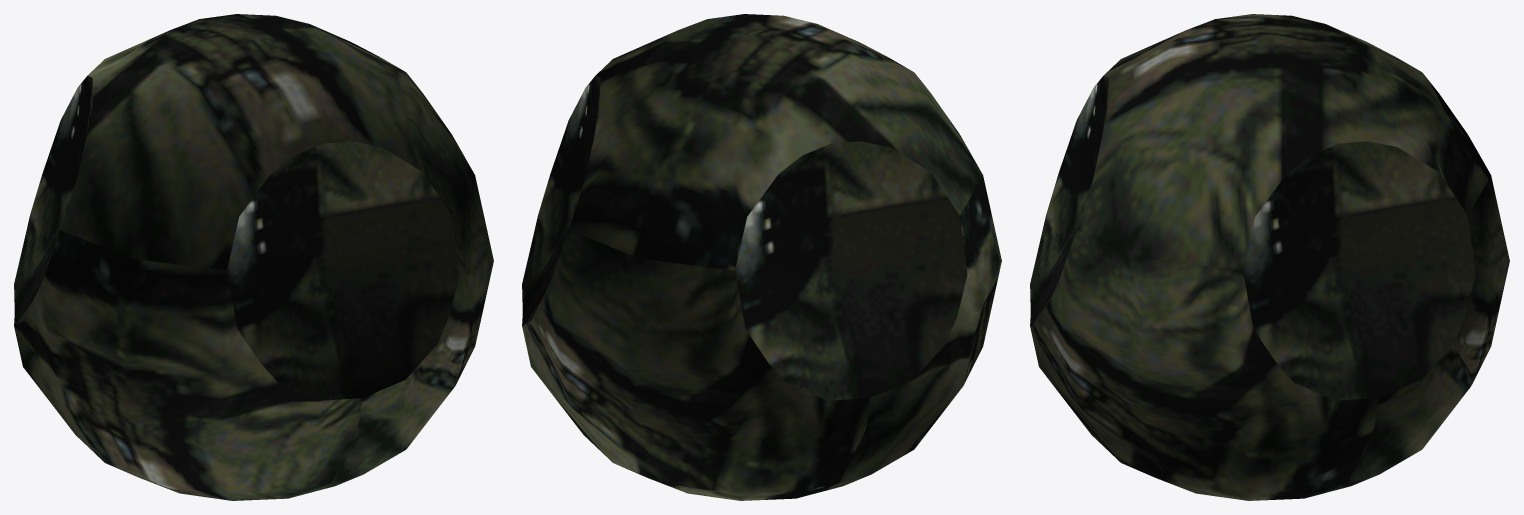
Rendered from slime1.ico.obj.
The picture shows the model from 3 angles, left to right: view 1: azimuth 30°, elevation 25°; view 2: azimuth 150°, elevation 25°; view 3: azimuth 270°, elevation 25°; orthographic projection.
Size of the model in its own units: 4.87 by 4.46 by 4.75.
